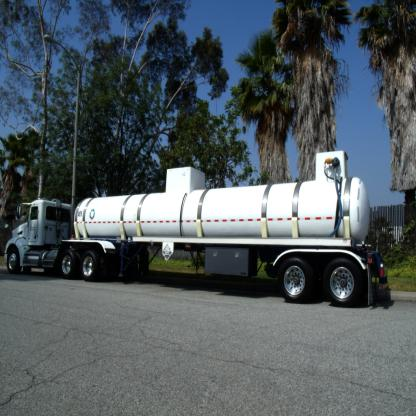Truck: (3, 150, 389, 306)
